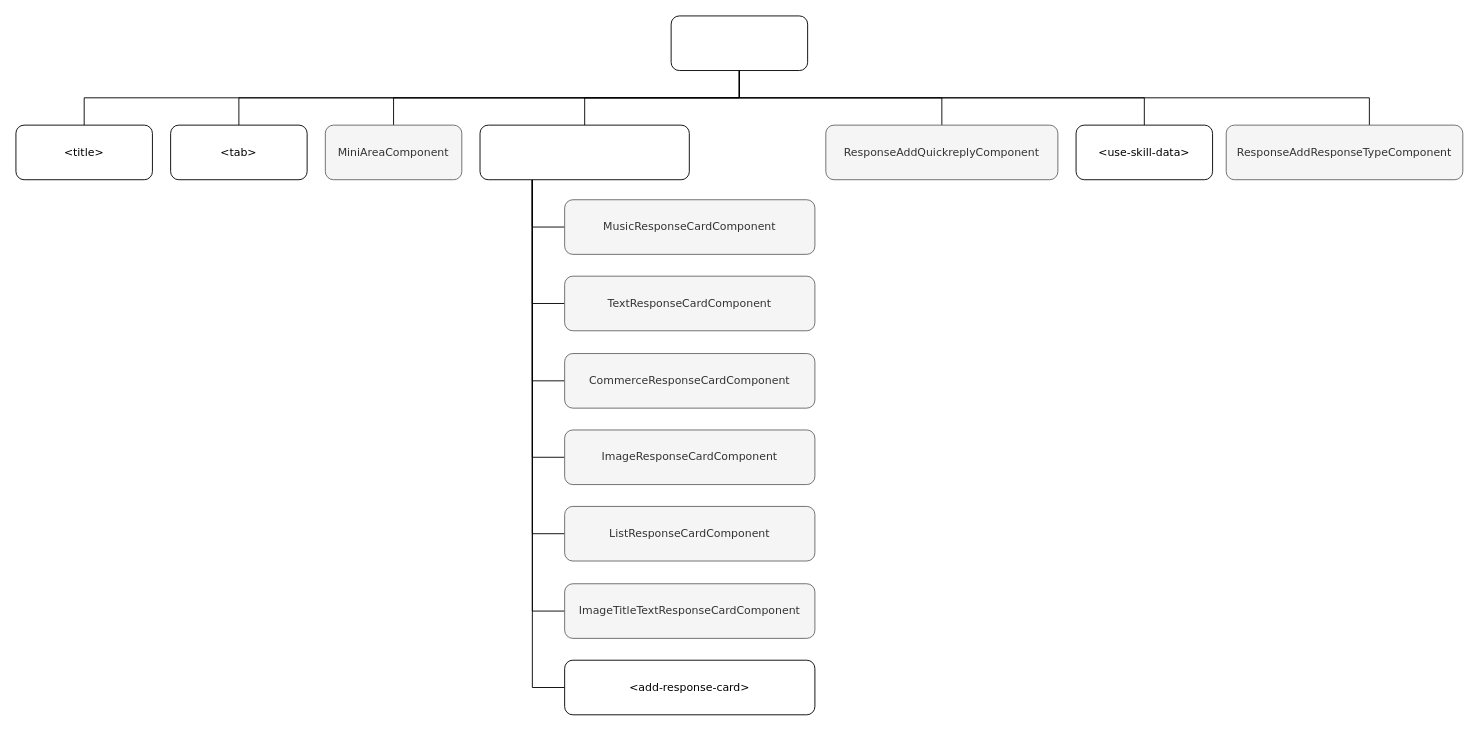
Image size: 1479x731. Some labels were removed from this diagram. Here are the shapes that lost their labels. From the top down, the centre of each, then its label:
At [739,43]: "ResponseComponent".
At [584,152]: "[ngFor]{responseCardGroups}".
